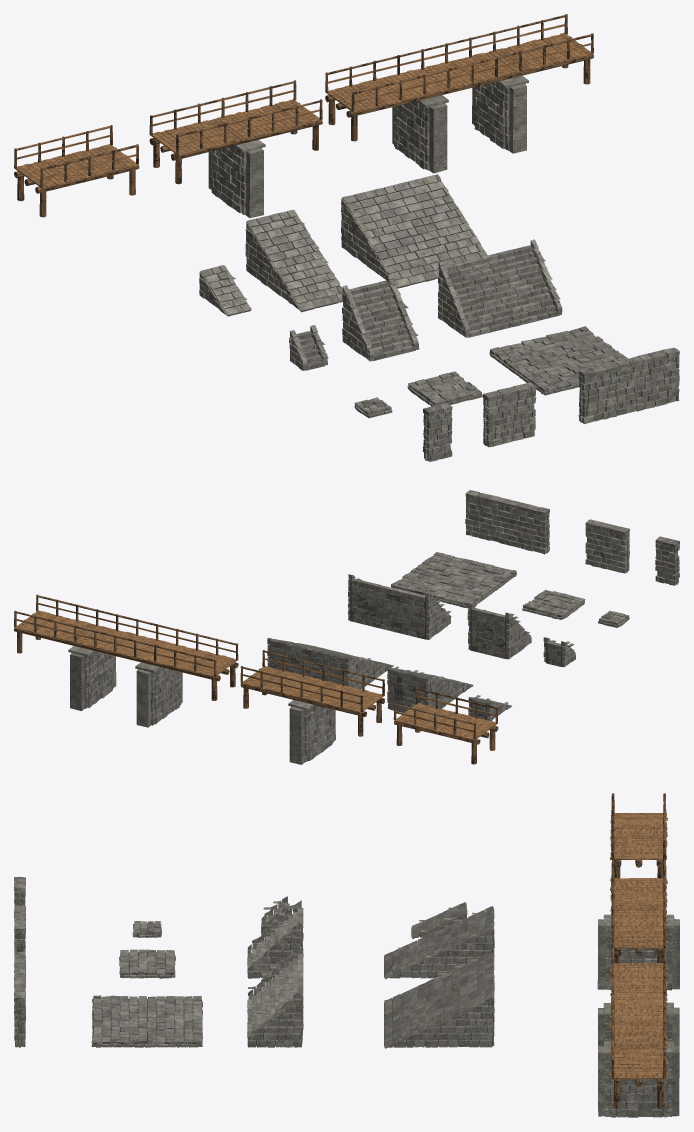
The model's file is mostruario_pmg.glb.
3 renders of one model, top to bottom at view 1: azimuth 30°, elevation 25°; view 2: azimuth 150°, elevation 25°; view 3: azimuth 270°, elevation 25°, orthographic. The views are drawn at different scales.
Parts seen in each view (by area): view 1: rampa_pedra_g_pedra, escada_pedra_g_pedra, ponte_g_pedra, ponte_g_madeira, rampa_pedra_m_pedra, parede_pedra_g_pedra, piso_pedra_g_pedra, escada_pedra_m_pedra, ponte_g_tronco, ponte_m_madeira, ponte_m_pedra, ponte_m_tronco (+7 smaller); view 2: ponte_g_madeira, ponte_g_pedra, escada_pedra_g_pedra, piso_pedra_g_pedra, parede_pedra_g_pedra, rampa_pedra_g_pedra, ponte_g_tronco, ponte_m_madeira, escada_pedra_m_pedra, ponte_m_pedra, rampa_pedra_m_pedra, ponte_m_tronco (+7 smaller); view 3: rampa_pedra_g_pedra, ponte_g_madeira, piso_pedra_g_pedra, ponte_g_pedra, rampa_pedra_m_pedra, escada_pedra_g_pedra, ponte_m_madeira, escada_pedra_m_pedra, ponte_m_pedra, ponte_p_madeira, piso_pedra_m_pedra, ponte_g_tronco (+7 smaller).
Boxes of the visible parts, x1,y1,x2,y2 form: rampa_pedra_g_pedra: (341,174,487,288); escada_pedra_g_pedra: (438,239,562,337); ponte_g_pedra: (392,75,528,173); ponte_g_madeira: (326,24,593,112); rampa_pedra_m_pedra: (245,209,342,312); parede_pedra_g_pedra: (578,347,679,424); piso_pedra_g_pedra: (489,326,627,395); escada_pedra_m_pedra: (342,274,419,361); ponte_g_tronco: (325,14,593,141); ponte_m_madeira: (151,90,321,156); ponte_m_pedra: (208,139,265,218); ponte_m_tronco: (149,80,322,184); ponte_g_madeira: (14,603,237,677); ponte_g_pedra: (68,646,182,727); escada_pedra_g_pedra: (348,574,451,639); piso_pedra_g_pedra: (391,552,516,608); parede_pedra_g_pedra: (465,490,549,554); rampa_pedra_g_pedra: (267,638,393,689); ponte_g_tronco: (14,594,238,700); ponte_m_madeira: (241,658,383,713); escada_pedra_m_pedra: (467,603,531,659); ponte_m_pedra: (288,700,335,764); rampa_pedra_m_pedra: (387,666,473,712); ponte_m_tronco: (240,650,384,736); rampa_pedra_g_pedra: (384,952,494,1048); ponte_g_madeira: (609,963,667,1079); piso_pedra_g_pedra: (91,995,202,1047); ponte_g_pedra: (598,1002,679,1117); rampa_pedra_m_pedra: (384,906,494,979); escada_pedra_g_pedra: (247,946,303,1047); ponte_m_madeira: (610,878,667,948); escada_pedra_m_pedra: (247,900,303,978); ponte_m_pedra: (597,914,679,990); ponte_p_madeira: (610,813,667,859); piso_pedra_m_pedra: (119,949,175,978); ponte_g_tronco: (611,943,666,1108).
Bounding box in the file's own units: 34.82 × 5.7 × 36.59.
3 materials, 3 textured.
